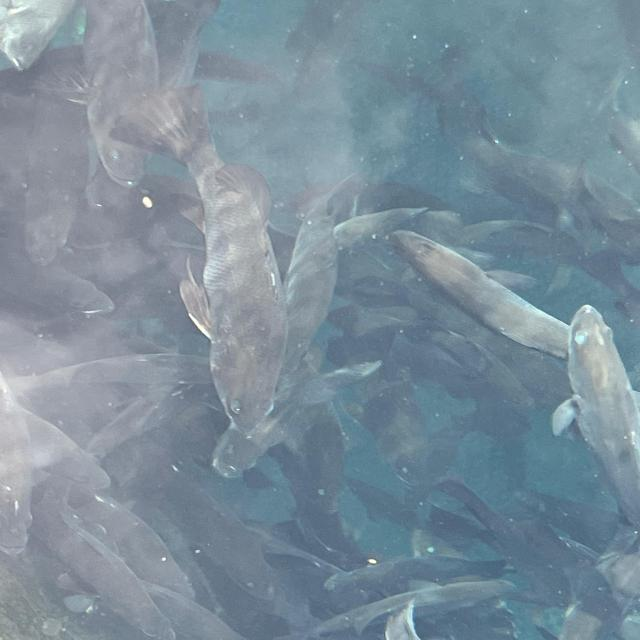ikan: (108, 82, 290, 439), (385, 228, 572, 361), (549, 303, 639, 530)
